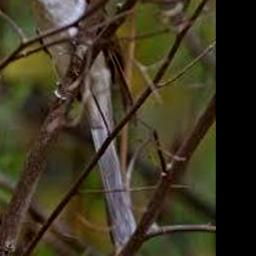Cuckoo: (8, 0, 140, 242)
